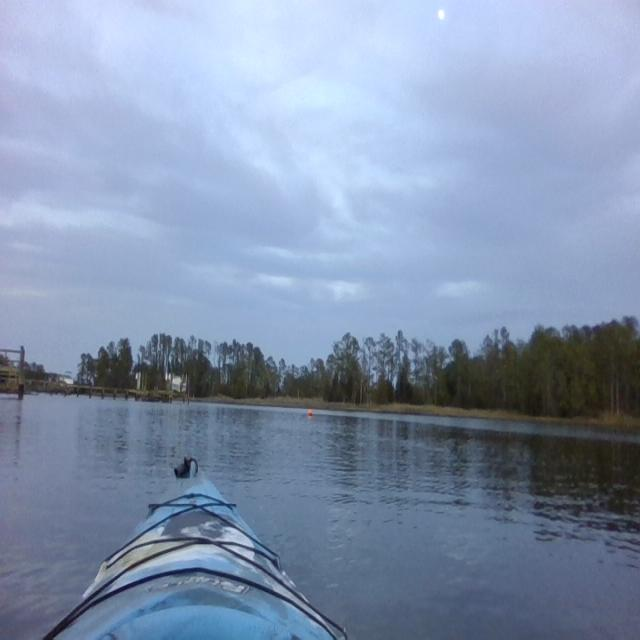Buoy: (307, 407, 314, 419)
